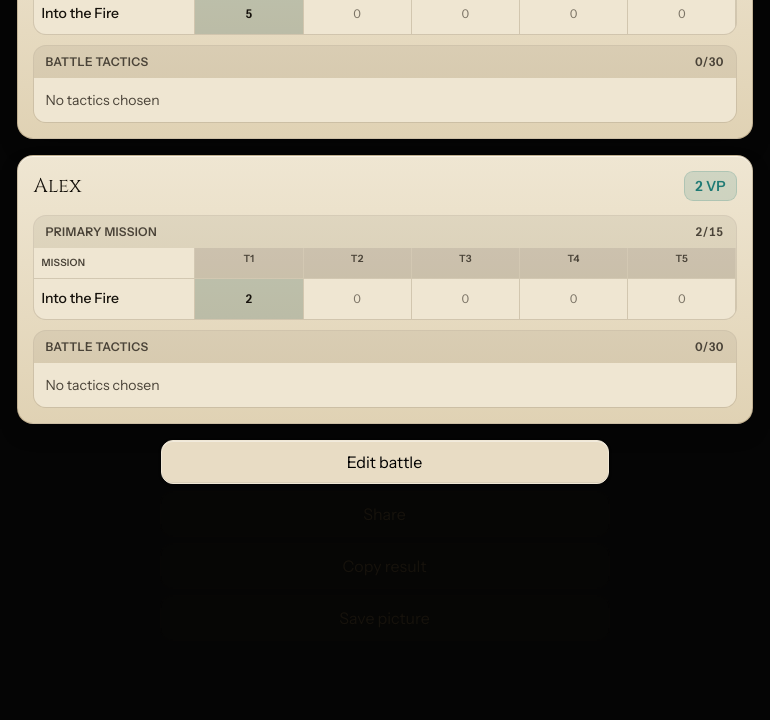
Test: BattleRecordGameScreen › Edit battle from recap reopens live scoring
(page scrolled)
Click the button "Edit battle" at point(384, 462), box top-left (160, 440), bottom-right (608, 484)
(page scrolled)
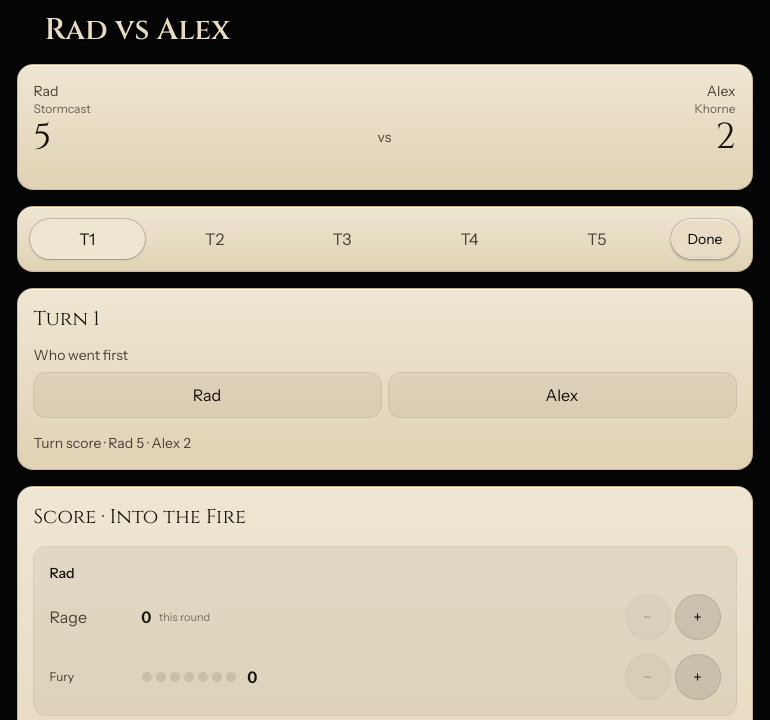
Expected: the heading "Rad vs Alex" is shown, top-left (44, 10), bottom-right (230, 50)
Expected: the navigation bar named "Battle timeline" is shown, top-left (16, 206), bottom-right (752, 272)
Expected: the button "Done" is shown, top-left (670, 219), bottom-right (739, 259)
